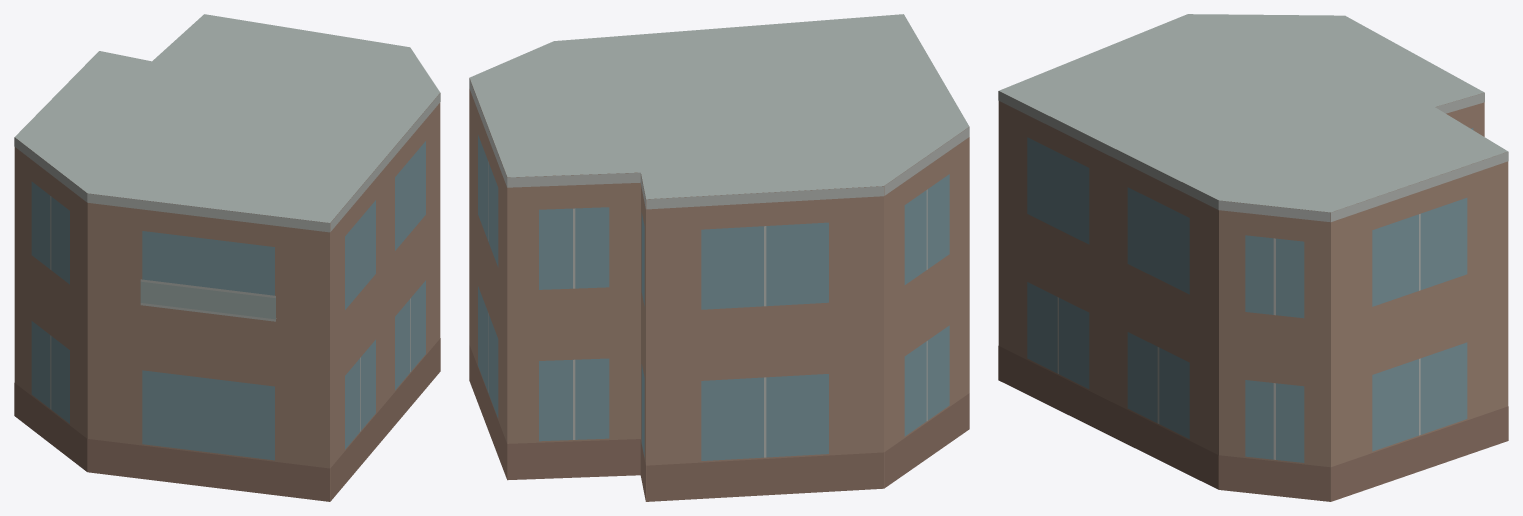
Rendered from survey-upis-32498484.glb.
3 renders of one model, left to right at view 1: azimuth 30°, elevation 25°; view 2: azimuth 150°, elevation 25°; view 3: azimuth 270°, elevation 25°, orthographic. The views are drawn at different scales.
Visible parts, largest first — view 1: survey-upis-32498484.tmp; view 2: survey-upis-32498484.tmp; view 3: survey-upis-32498484.tmp.
Boxes of the visible parts, x1,y1,x2,y2 form: survey-upis-32498484.tmp: [14, 14, 440, 501]; survey-upis-32498484.tmp: [469, 14, 969, 501]; survey-upis-32498484.tmp: [998, 14, 1508, 501].
Bounding box in the file's own units: 10.6 × 7.2 × 11.5.
